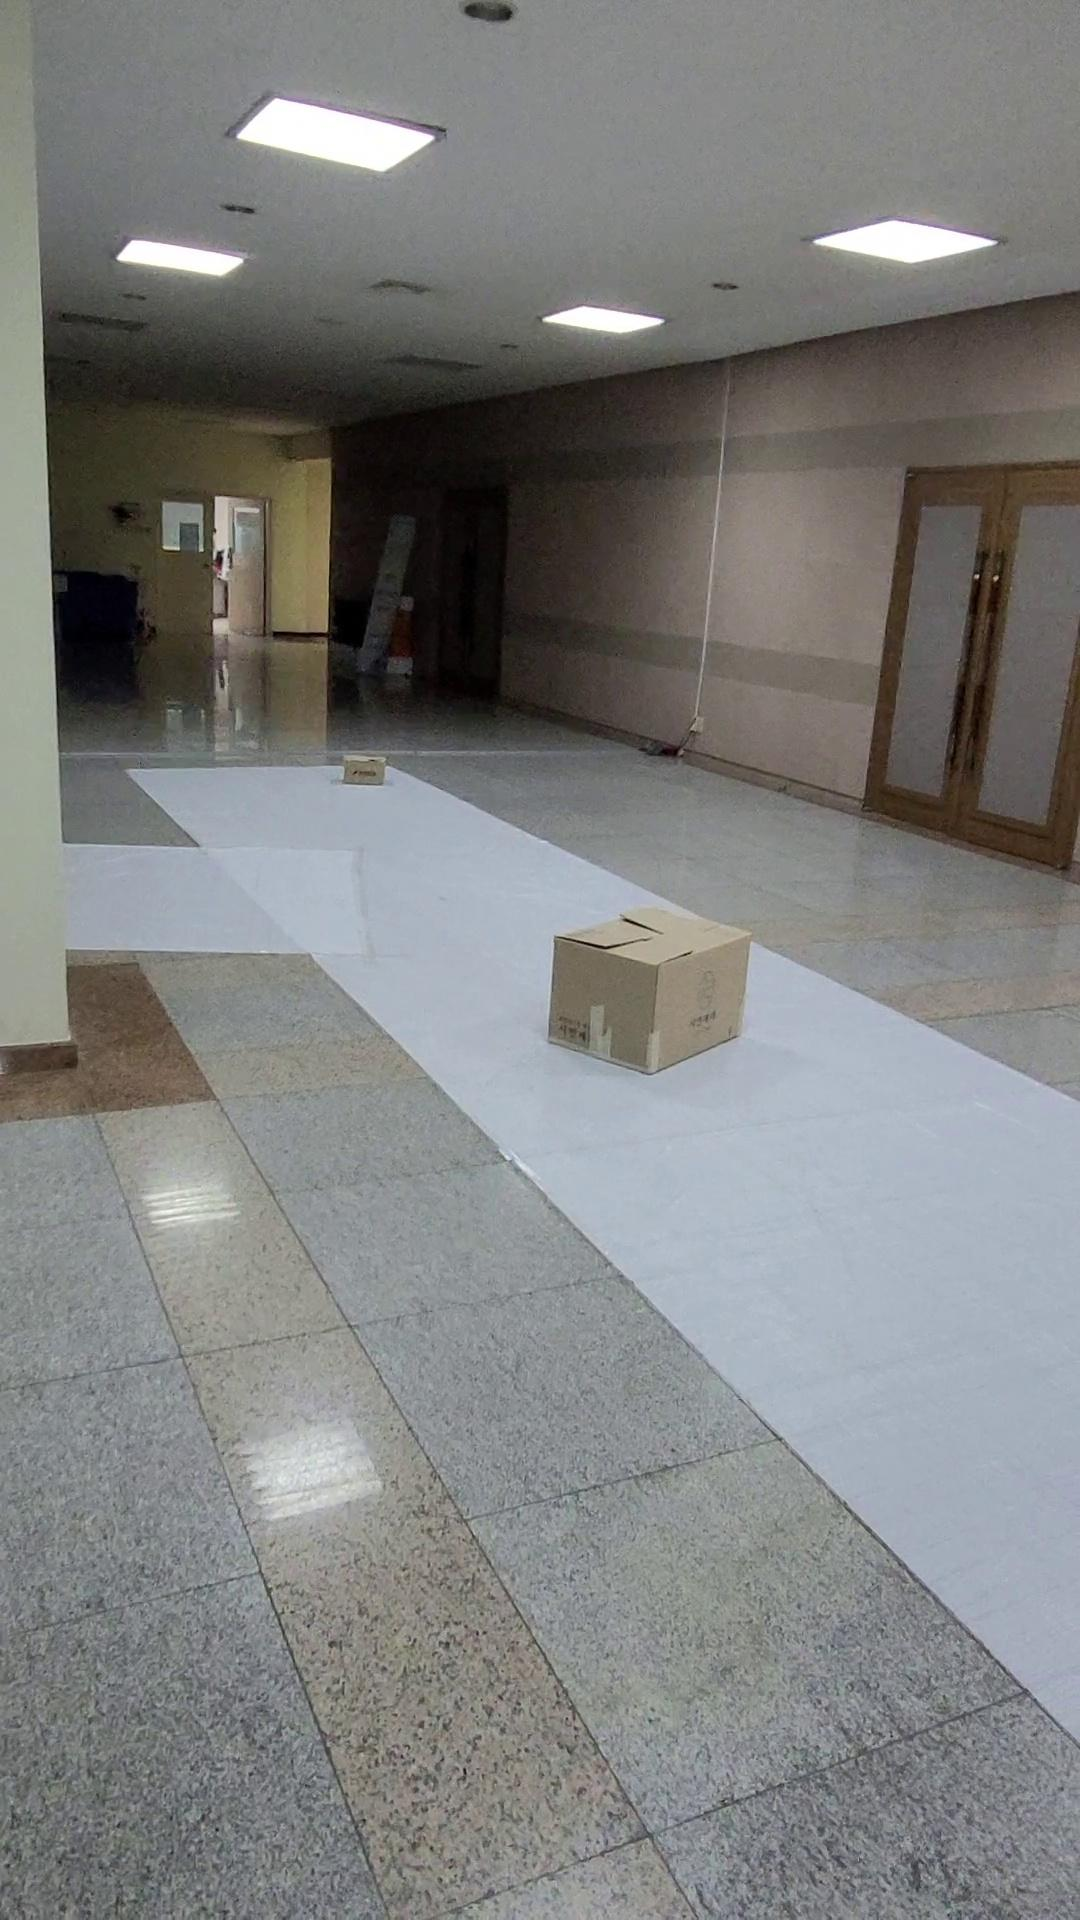Box: (512, 885, 781, 1097), (313, 720, 396, 802)
